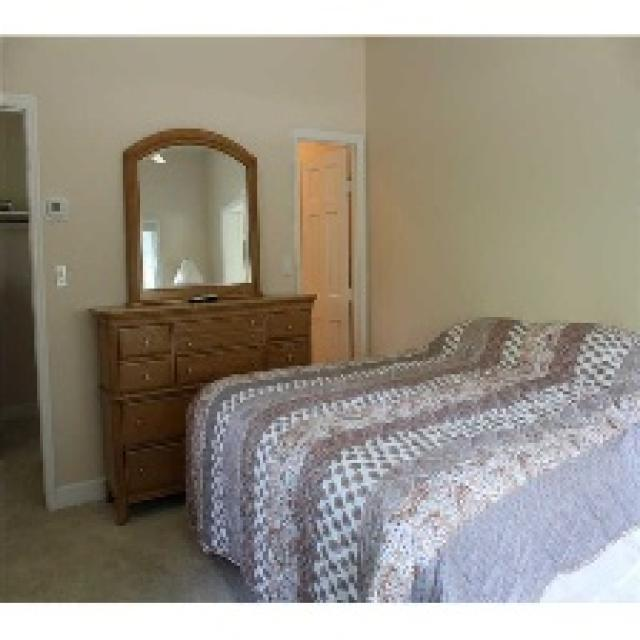Bed: (183, 314, 637, 603)
